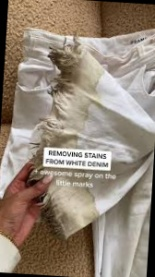earth: (49, 63, 101, 116), (51, 192, 92, 226), (44, 121, 79, 147)
